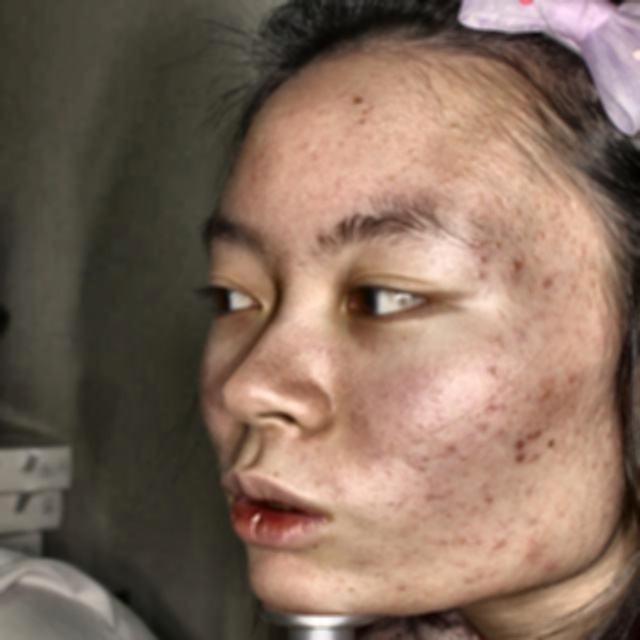comedone: (535, 270, 561, 294), (506, 441, 532, 463), (529, 424, 550, 441), (507, 259, 528, 275)
